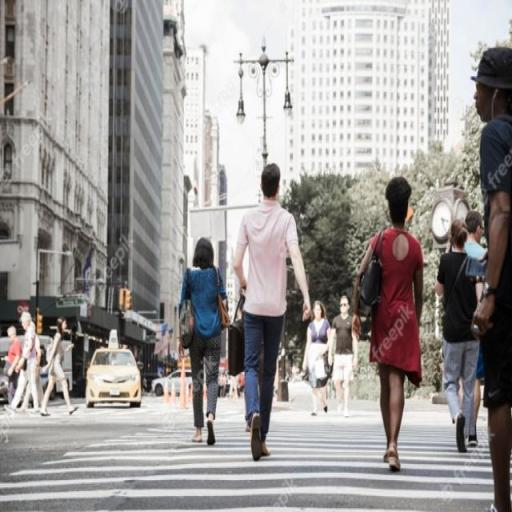person: (236, 164, 311, 467), (353, 175, 425, 476), (475, 47, 512, 512), (178, 235, 229, 449), (437, 221, 476, 453), (461, 206, 489, 449), (6, 313, 44, 416), (331, 292, 361, 421), (45, 316, 80, 421), (311, 301, 332, 418), (7, 324, 24, 410)
